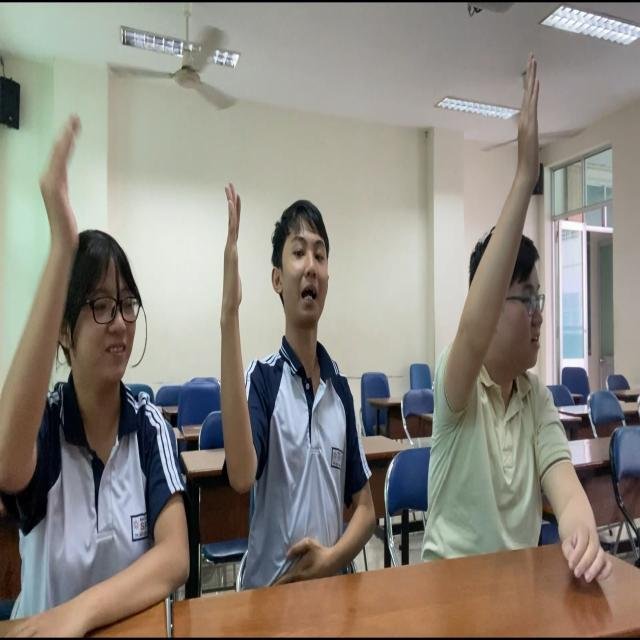raise_hand: (1, 92, 212, 640), (419, 36, 615, 592)
